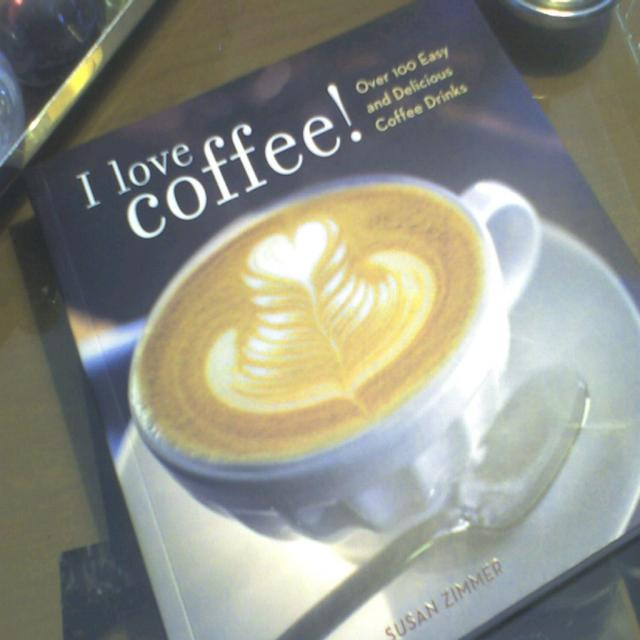latte: (122, 177, 489, 469)
